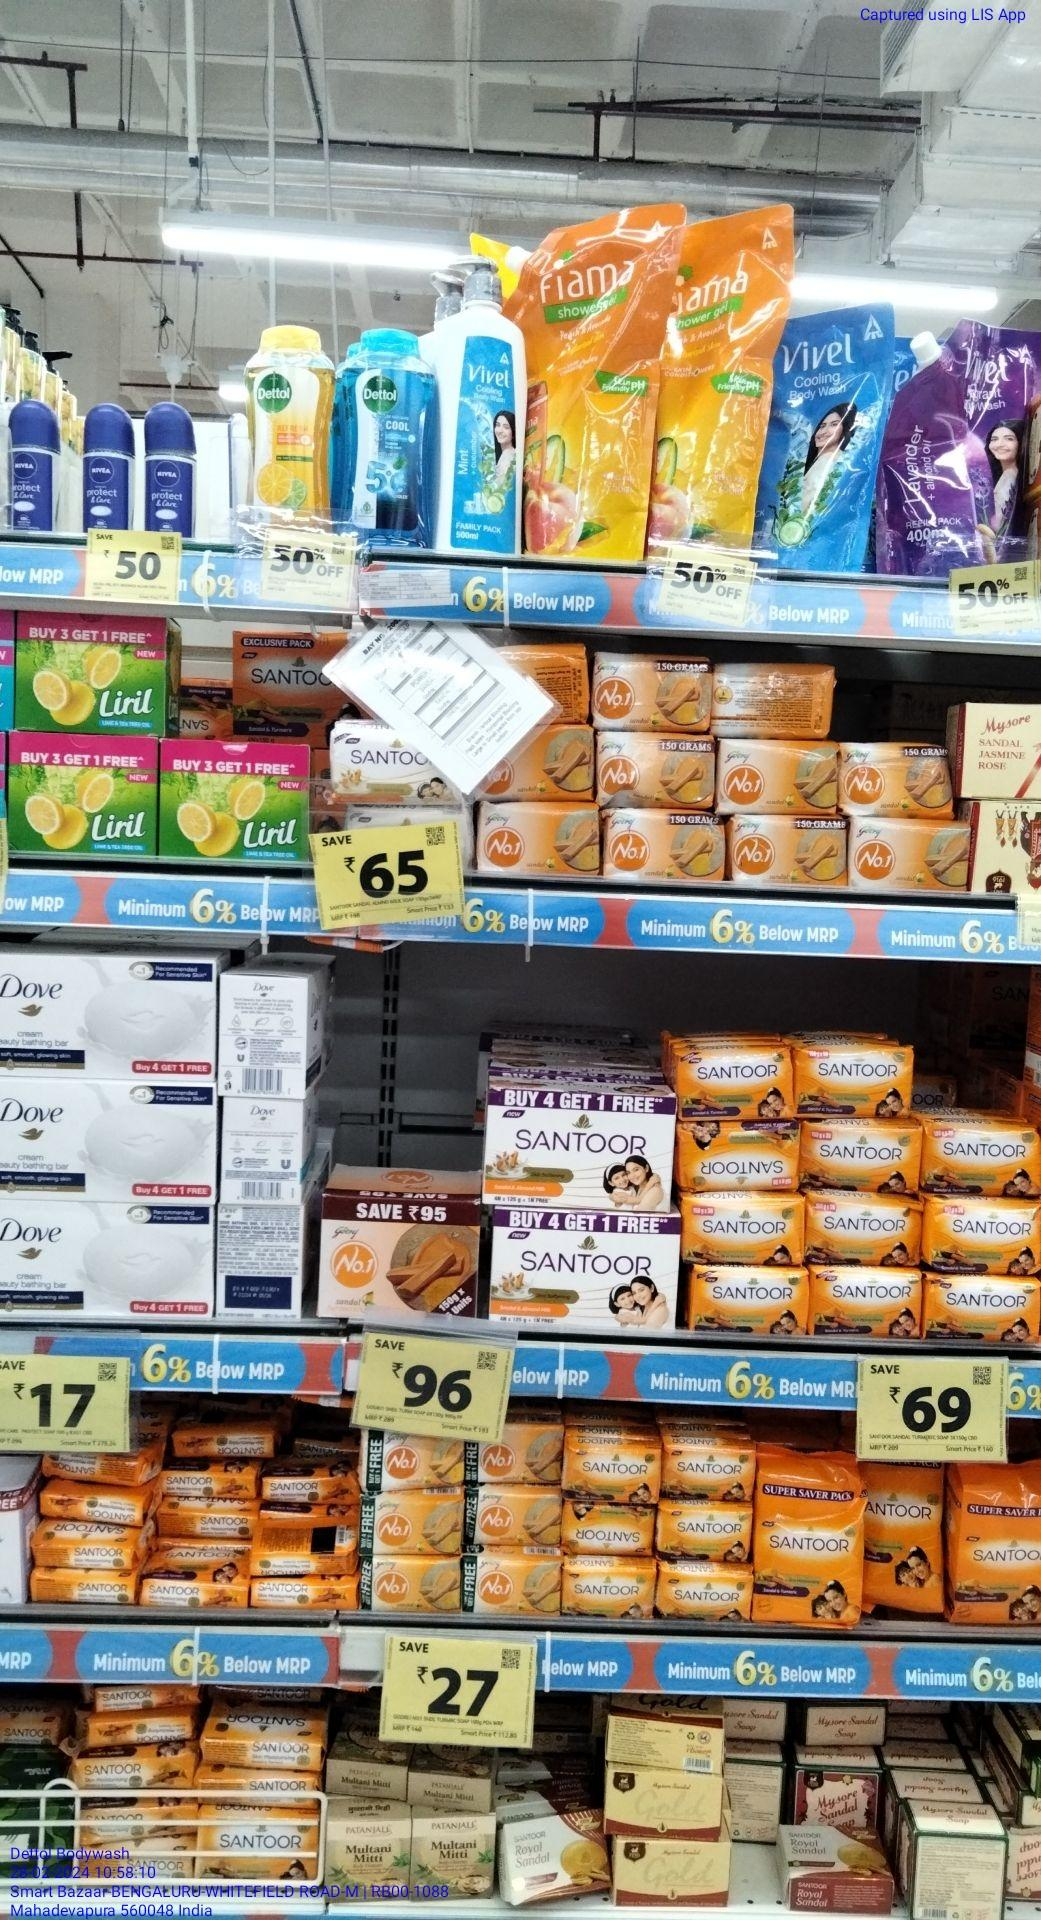Dettol_Bodywash_Cool: (338, 327, 433, 550)
Dettol_Bodywash_Refresh: (245, 322, 328, 536)
